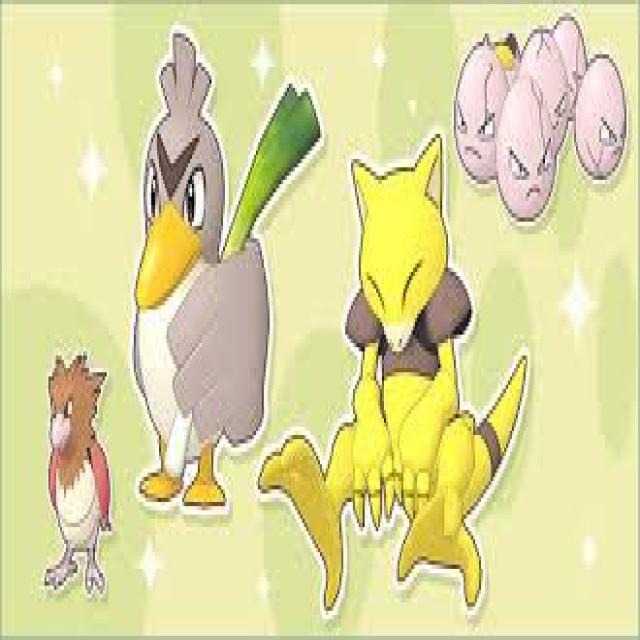Abra: (335, 152, 471, 538)
Exeggcute: (453, 26, 627, 200)
Farfetchd: (131, 59, 243, 500)
